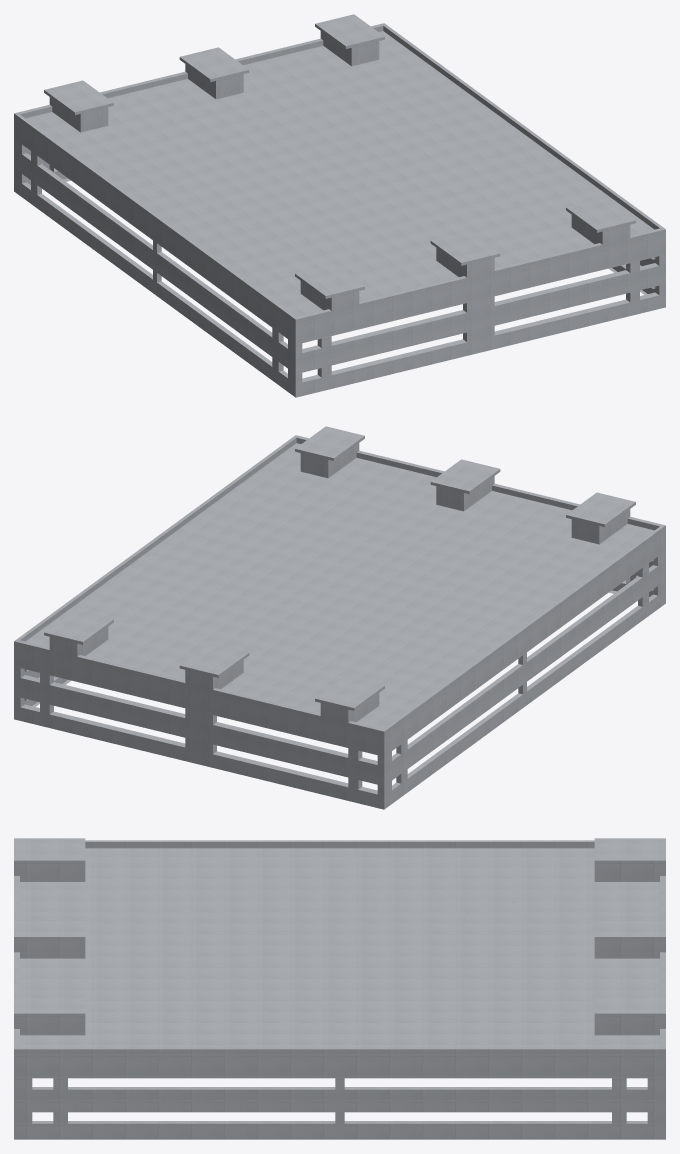
File: wall1.gltf
3 renders of one model, top to bottom at view 1: azimuth 30°, elevation 25°; view 2: azimuth 150°, elevation 25°; view 3: azimuth 270°, elevation 25°, orthographic. The views are drawn at different scales.
Visible parts, largest first — view 1: L2_WaiQiang_1; view 2: L2_WaiQiang_1; view 3: L2_WaiQiang_1.
Boxes of the visible parts, <box> form: L2_WaiQiang_1: <box>14,14,665,397</box>; L2_WaiQiang_1: <box>14,426,665,809</box>; L2_WaiQiang_1: <box>14,838,665,1139</box>.
Size of the model in its own units: 26.77 by 6.51 by 35.29.
Materials: 1 (1 with a texture image).
